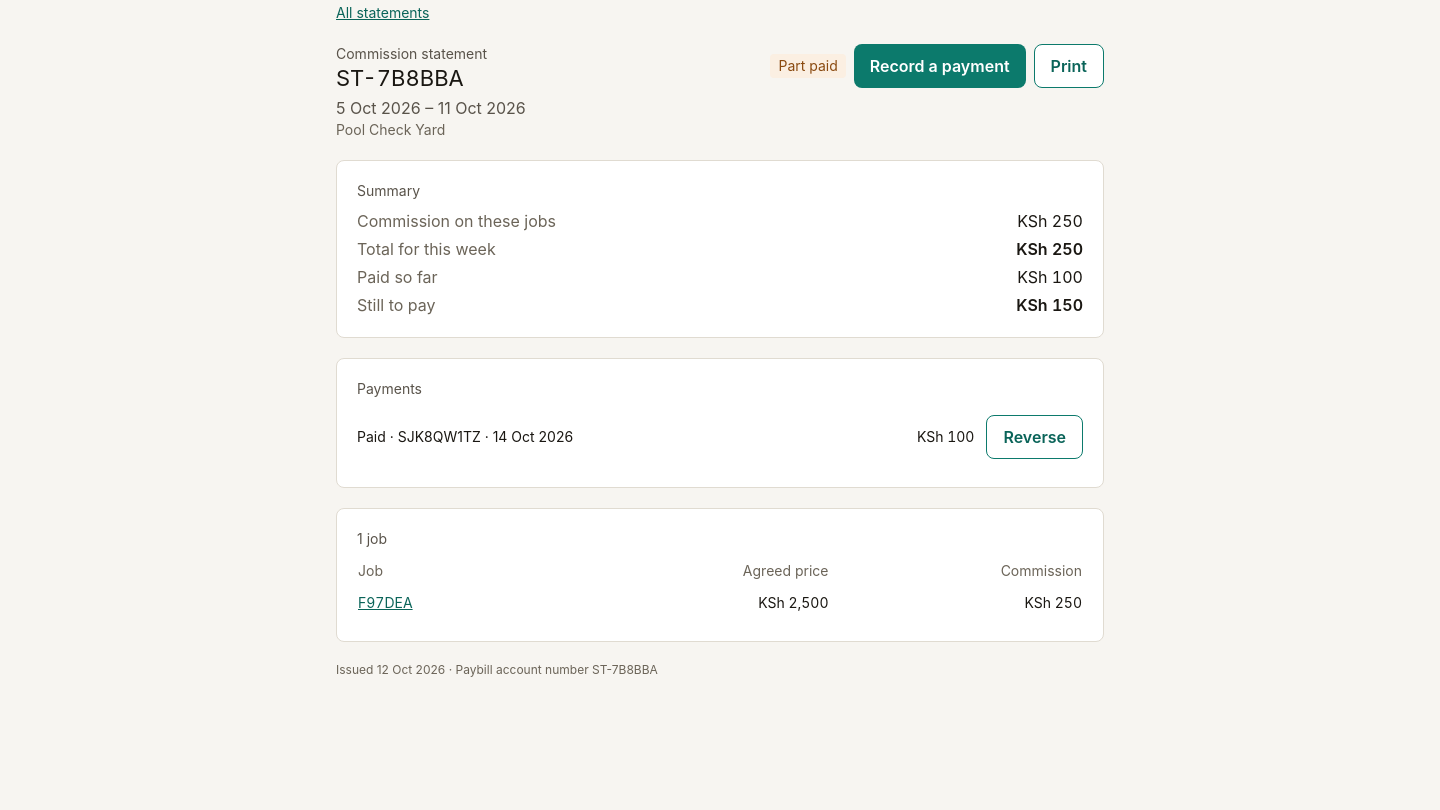
it: AdminStatementDetailPage › shows the server refusal inside the dialog
The image size is (1440, 810).
Click the button "Record a payment" at (940, 66), box 854,44 -> 1026,88
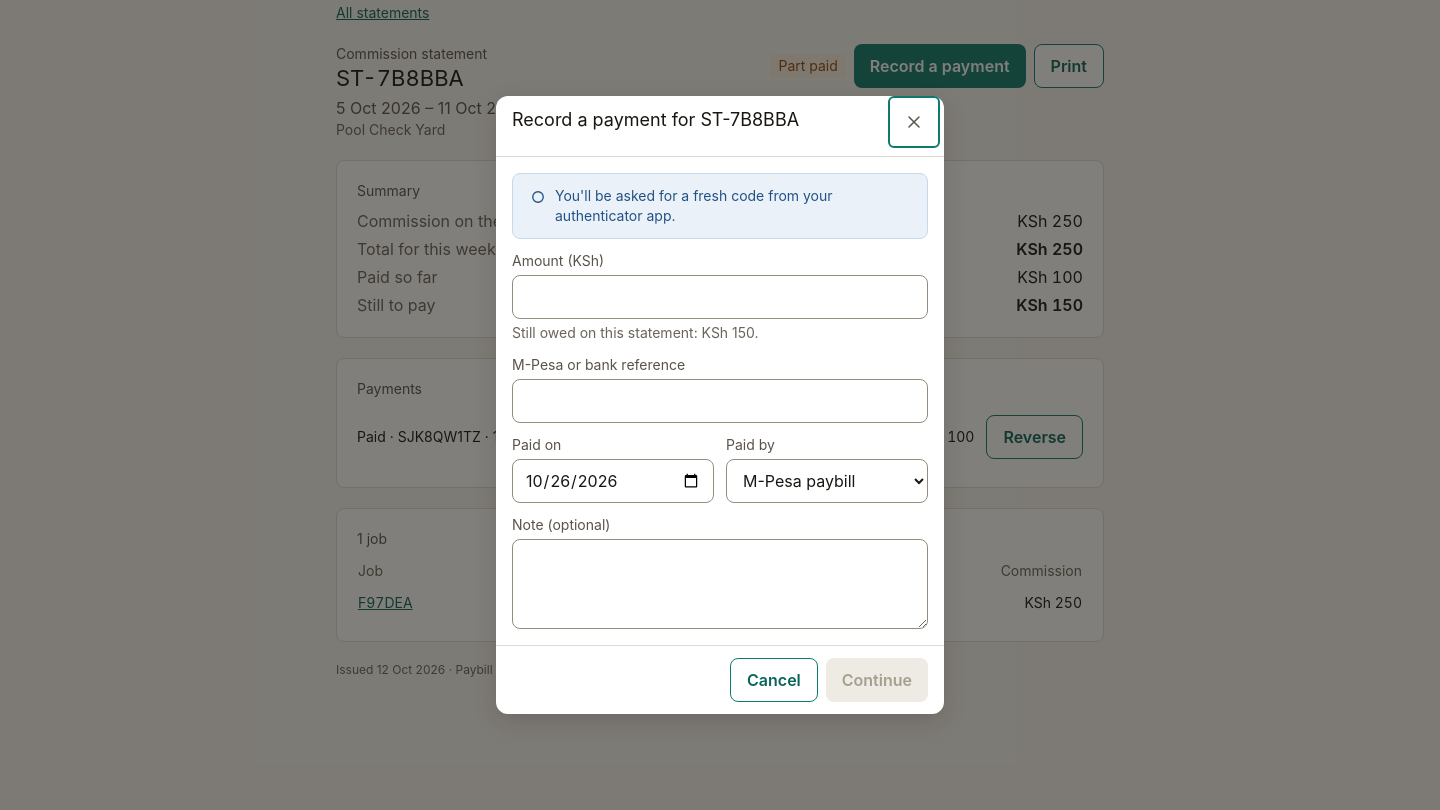
Type "100" into the field labelled "Amount (KSh)" at (720, 297), box 512,275 -> 928,319
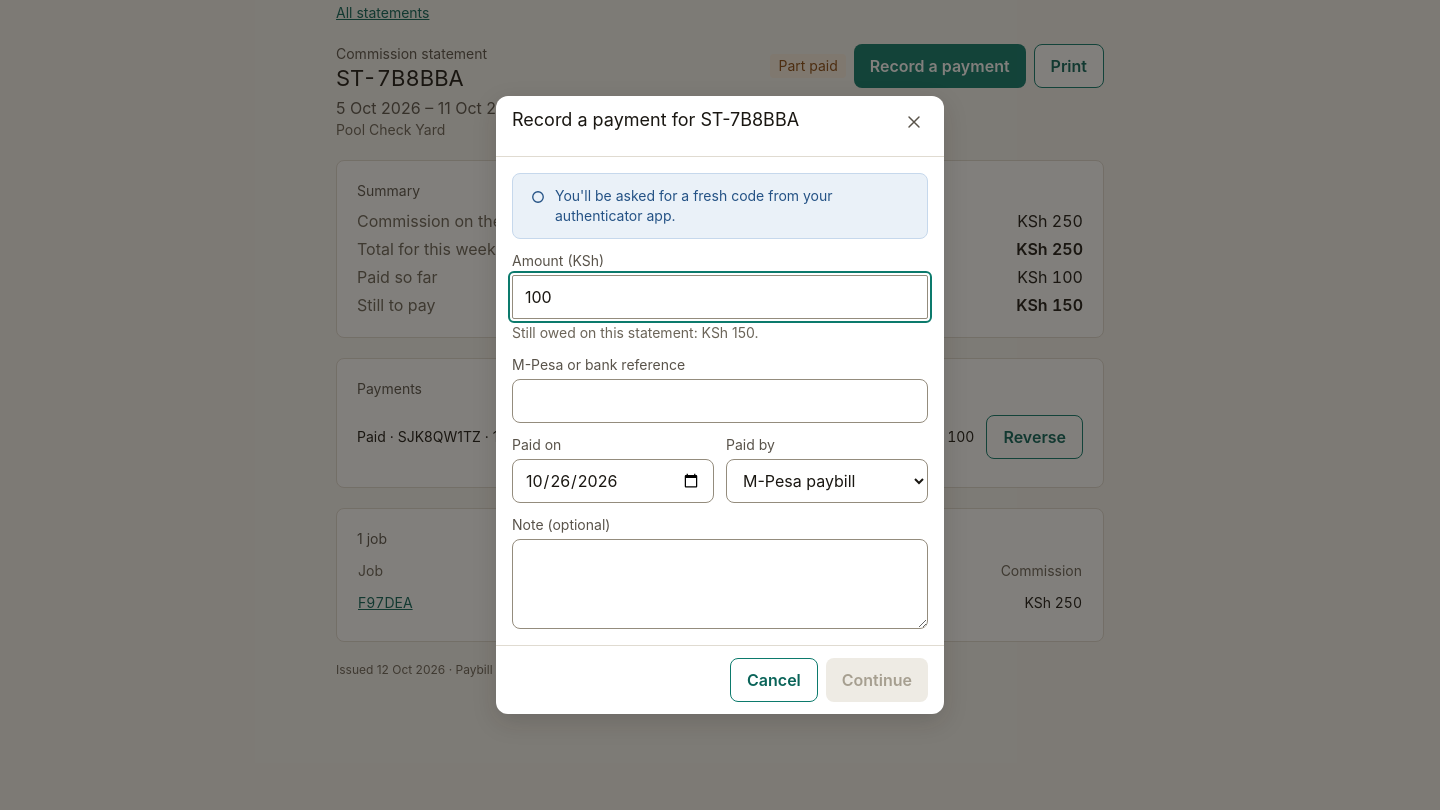
Type "SJK8QW1TZ" into the field labelled "M-Pesa or bank reference" at (720, 401), box 512,379 -> 928,423
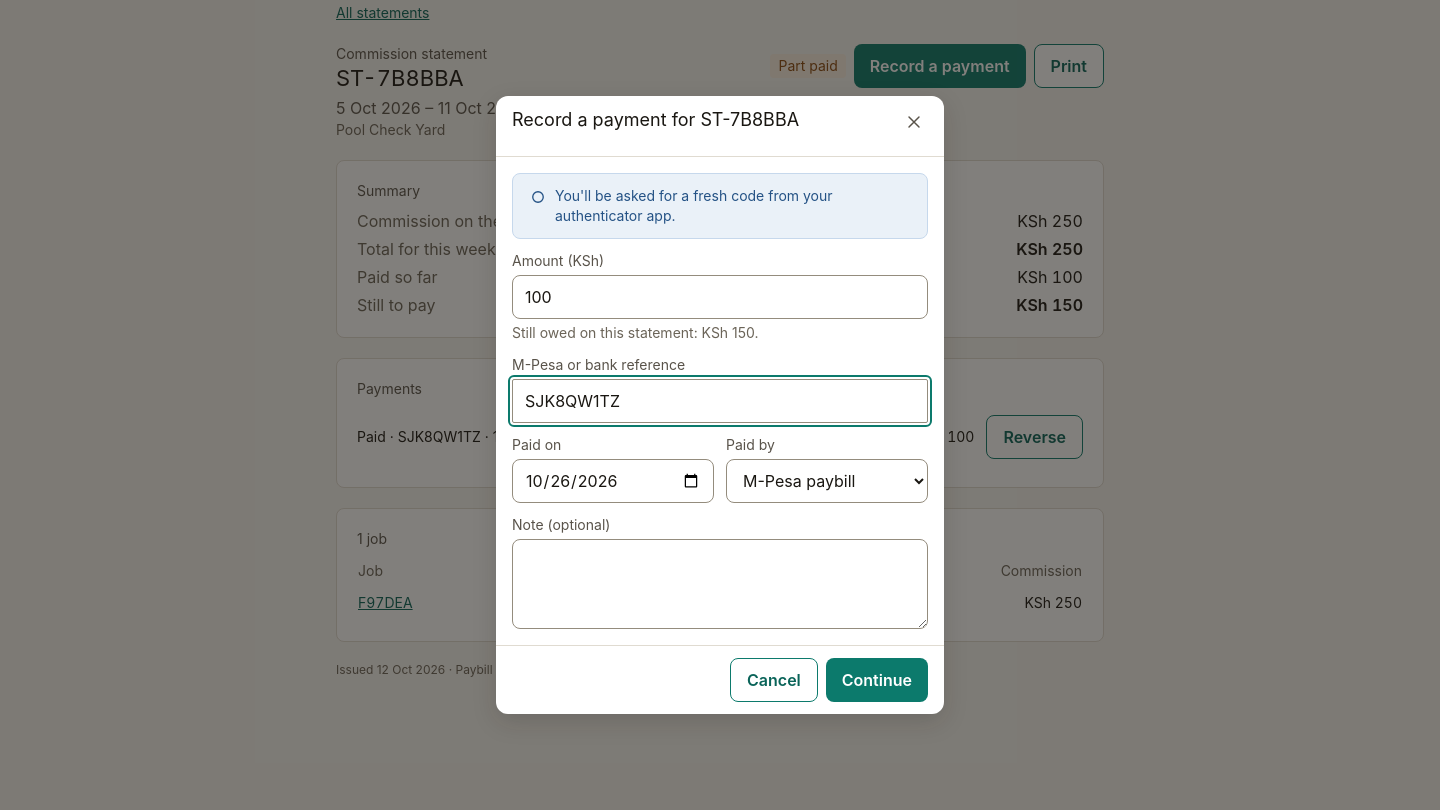
Click the button "Continue" at (877, 680), box 826,658 -> 928,702
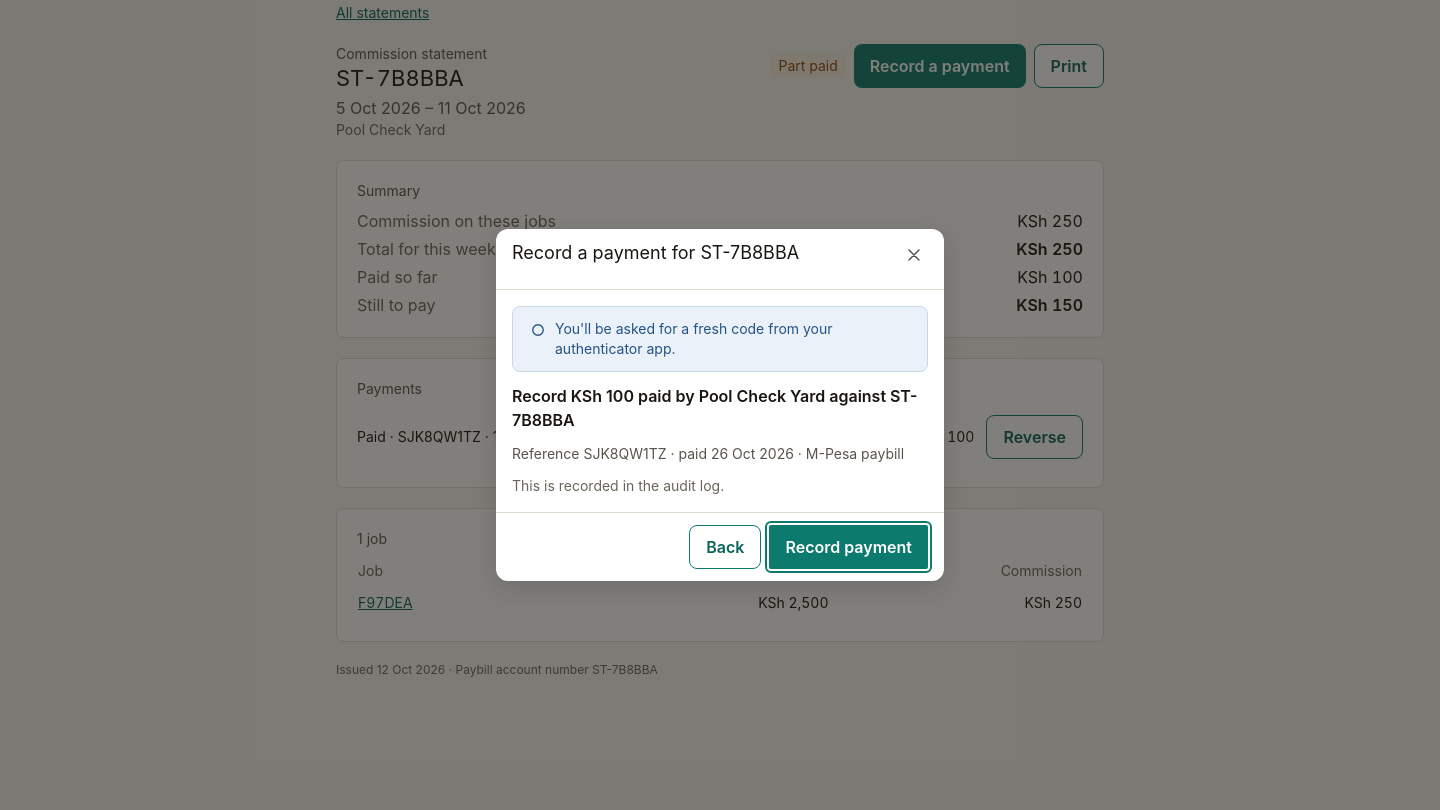
Click the button "Record payment" at (849, 547), box 769,525 -> 928,569
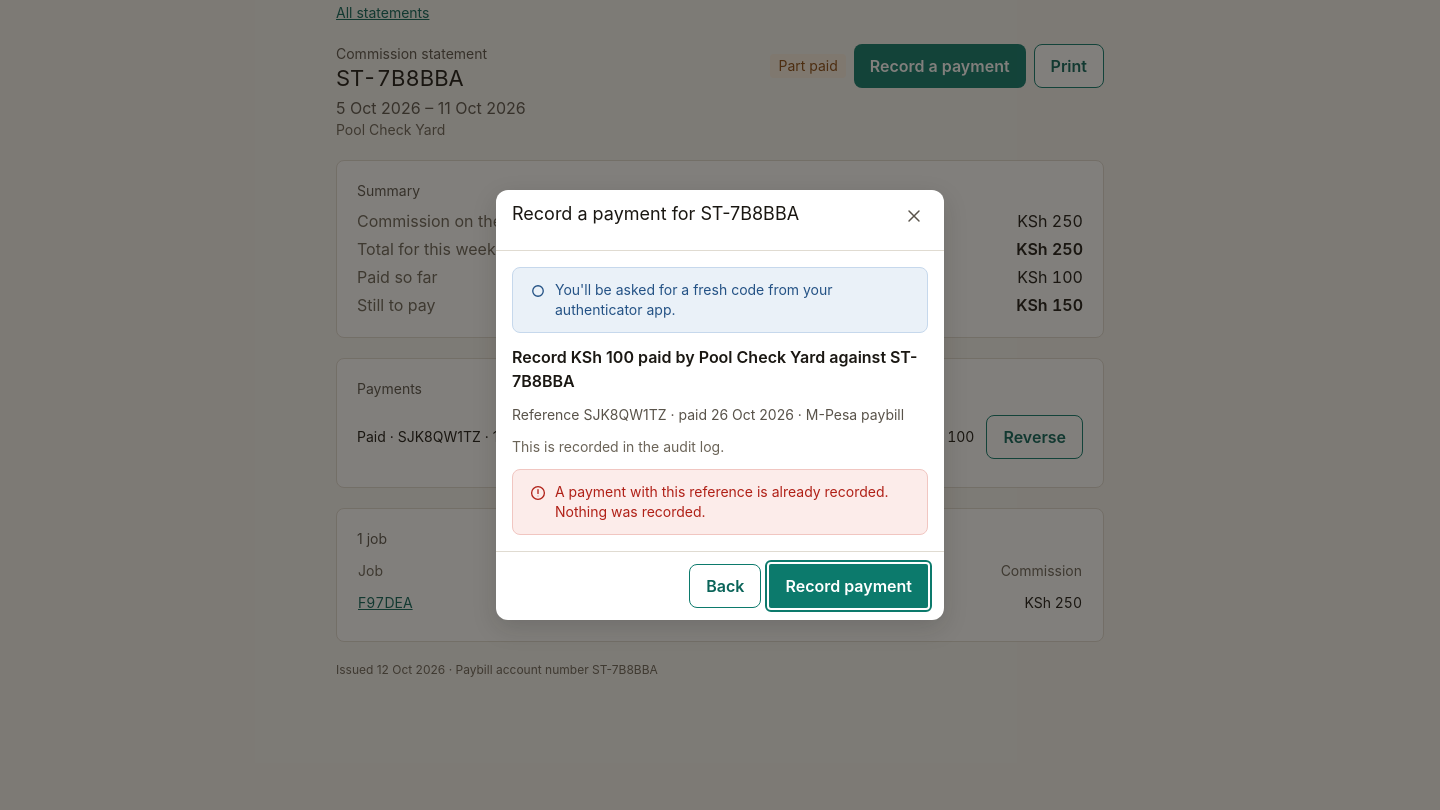
Expected: the text "already recorded" is shown, 555,483 -> 889,520
